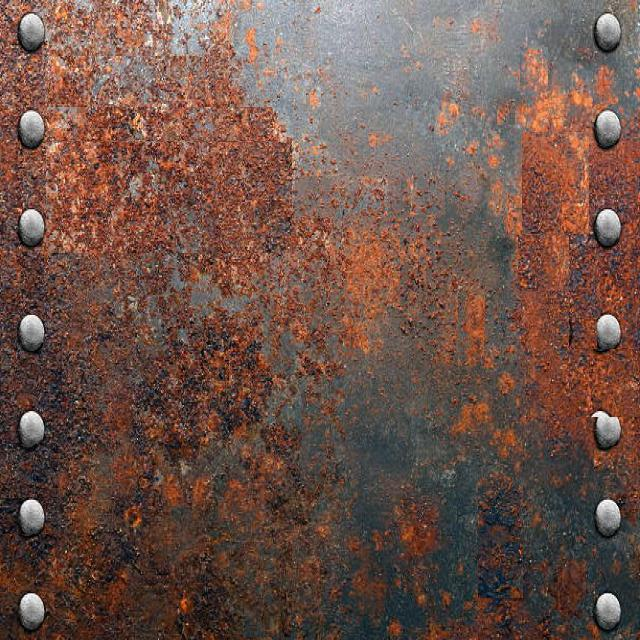Corrosion: (120, 0, 327, 310), (76, 224, 258, 576), (517, 88, 605, 435)
